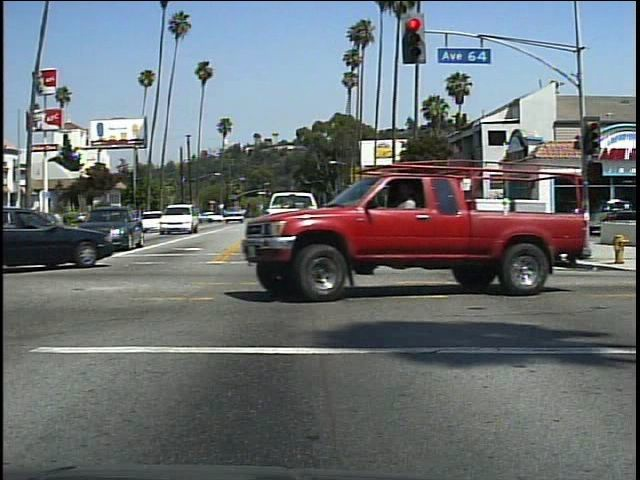person: (388, 178, 428, 290), (475, 200, 500, 236)
